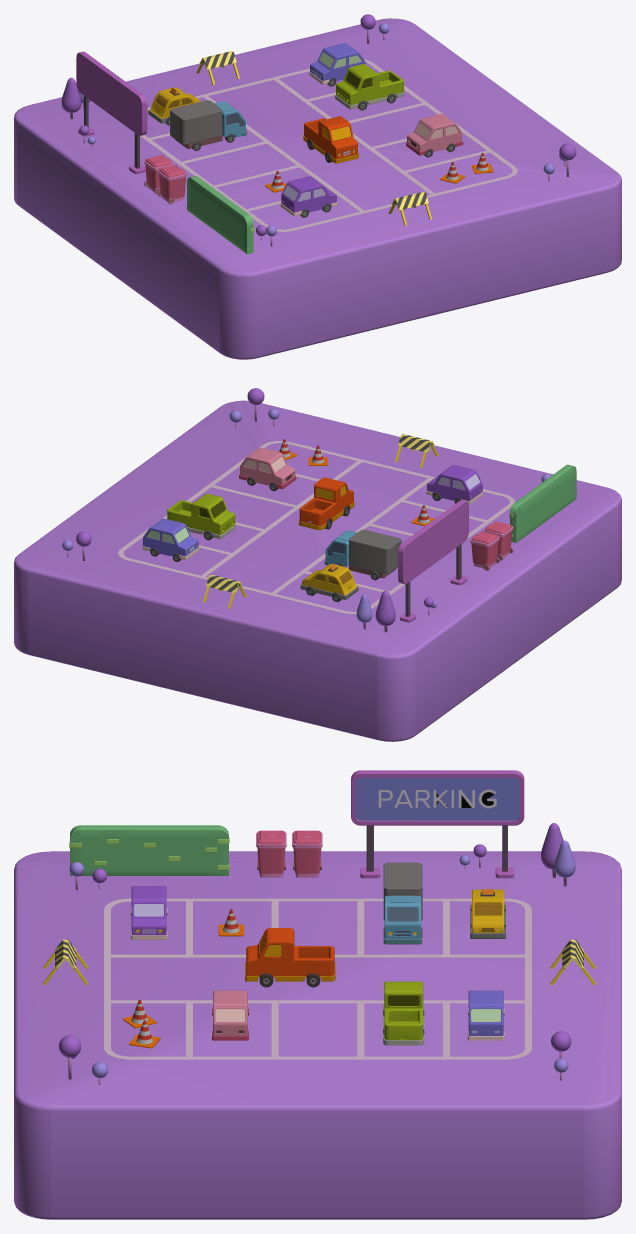
File: stage_12_uv.fbx
3 views of the same model, one above another, from view 1: azimuth 30°, elevation 25°; view 2: azimuth 150°, elevation 25°; view 3: azimuth 270°, elevation 25° (orthographic). The views are drawn at different scales.
Parts seen in each view (by area): view 1: bg_1, parking_line_1, billboard_1, wall_1, mni_truck_1, Truck_Back_1, Mini_Truck_1, tree_1, nomal_car_body_3, nomal_car_body_1, nomal_car_body_2, Texi_1 (+5 smaller); view 2: bg_1, parking_line_1, billboard_1, wall_1, mni_truck_1, tree_1, Mini_Truck_1, Truck_Back_1, nomal_car_body_3, nomal_car_body_2, nomal_car_body_1, Texi_1 (+5 smaller); view 3: bg_1, billboard_1, parking_line_1, wall_1, Mini_Truck_1, tree_1, mni_truck_1, nomal_car_body_1, Truck_1, nomal_car_body_2, nomal_car_body_3, Texi_1 (+5 smaller).
Part boxes in pixels (box(x1,y1,x2,y2)): bg_1: box(14, 18, 621, 359); parking_line_1: box(140, 59, 517, 231); billboard_1: box(76, 51, 147, 174); wall_1: box(187, 176, 254, 254); mni_truck_1: box(335, 64, 404, 109); Truck_Back_1: box(170, 100, 222, 144); Mini_Truck_1: box(303, 116, 358, 163); tree_1: box(61, 14, 576, 246); nomal_car_body_3: box(406, 114, 463, 155); nomal_car_body_1: box(280, 176, 337, 216); nomal_car_body_2: box(309, 43, 365, 84); Texi_1: box(148, 87, 200, 123); bg_1: box(14, 400, 621, 741); parking_line_1: box(118, 441, 514, 614); billboard_1: box(398, 500, 468, 622); wall_1: box(509, 464, 576, 542); mni_truck_1: box(167, 493, 235, 539); tree_1: box(62, 388, 550, 632); Mini_Truck_1: box(299, 477, 354, 530); Truck_Back_1: box(349, 529, 401, 573); nomal_car_body_3: box(239, 447, 296, 489); nomal_car_body_2: box(142, 518, 199, 559); nomal_car_body_1: box(426, 465, 483, 504); Texi_1: box(300, 564, 358, 599); bg_1: box(14, 851, 621, 1219); billboard_1: box(351, 770, 524, 878); parking_line_1: box(104, 898, 531, 1059); wall_1: box(69, 825, 229, 875); Mini_Truck_1: box(245, 928, 335, 981); tree_1: box(59, 823, 575, 1084); mni_truck_1: box(383, 981, 424, 1045); nomal_car_body_1: box(130, 886, 167, 939); Truck_1: box(383, 895, 422, 944); nomal_car_body_2: box(467, 990, 504, 1040); nomal_car_body_3: box(212, 990, 248, 1040); Texi_1: box(470, 889, 505, 938).
Bounding box in the file's own units: 1300 × 513 × 1300.
27 materials, 27 textured.
